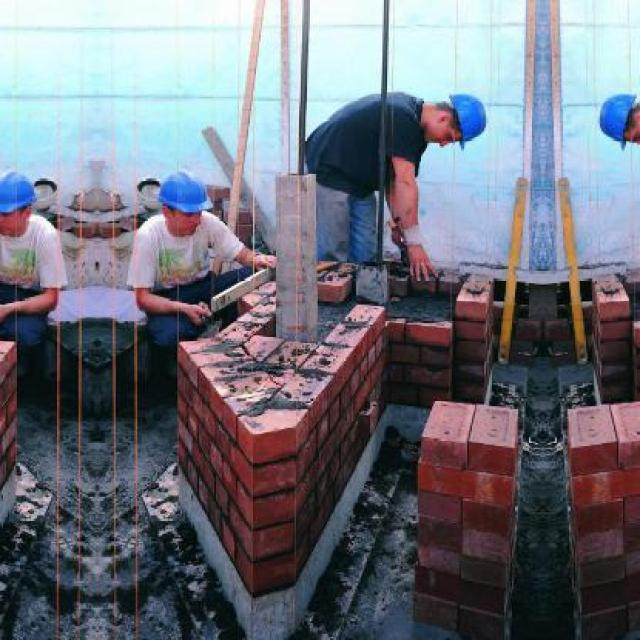helmet: (150, 163, 219, 226), (449, 83, 493, 152)
